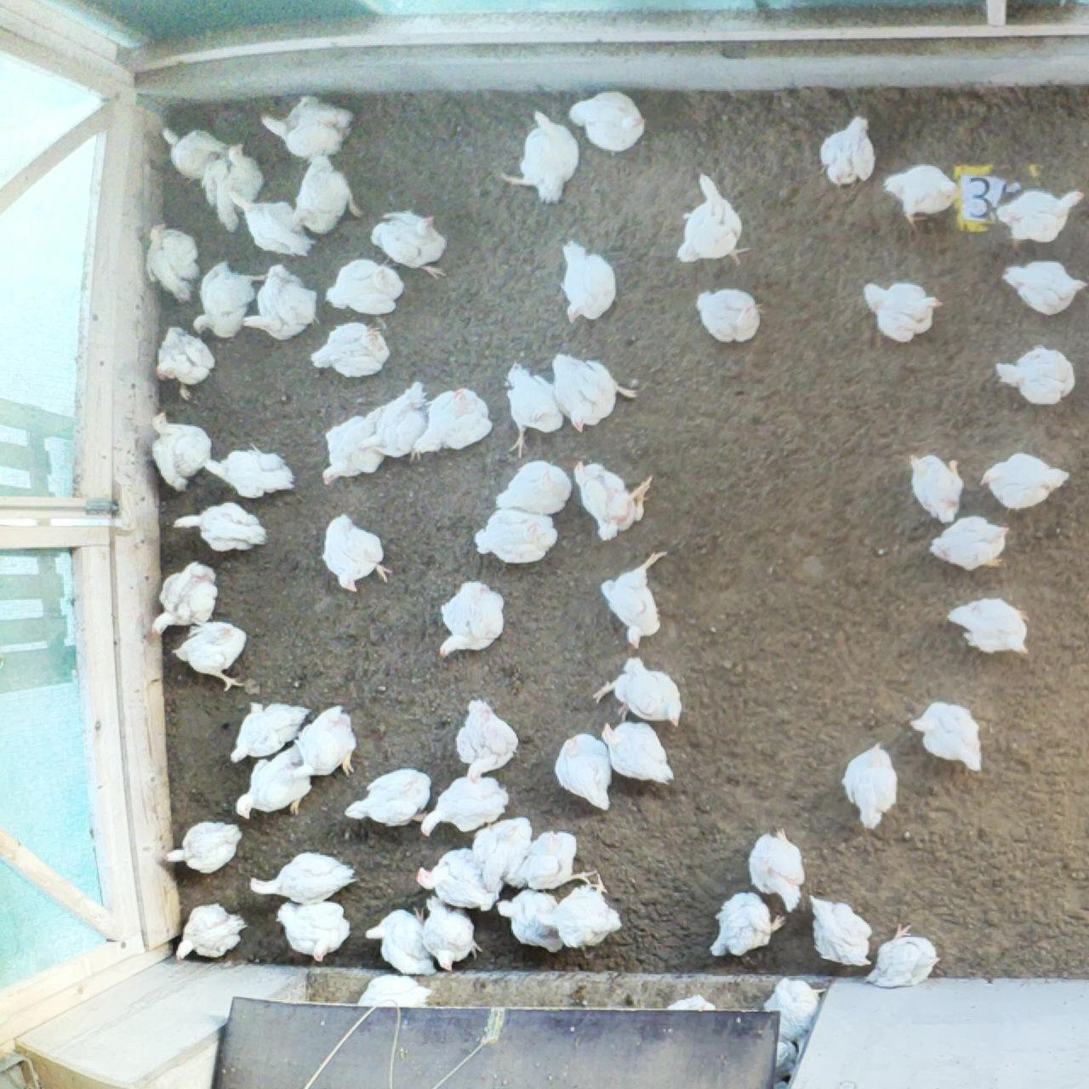chicken: (499, 111, 581, 207), (550, 352, 640, 437), (280, 148, 362, 241), (673, 172, 753, 267), (592, 653, 686, 731), (223, 186, 319, 260), (355, 379, 433, 469), (597, 550, 667, 649), (260, 91, 356, 163), (568, 458, 653, 539), (418, 770, 511, 841), (536, 876, 624, 951), (497, 362, 566, 456), (200, 138, 264, 236), (242, 263, 322, 341), (409, 385, 492, 460), (992, 186, 1086, 252), (415, 844, 502, 915), (504, 829, 602, 892), (368, 205, 447, 283), (434, 577, 510, 658), (195, 256, 269, 339), (979, 449, 1072, 514), (166, 499, 272, 556), (234, 743, 312, 820), (998, 254, 1089, 320), (172, 619, 251, 695), (250, 849, 359, 904), (150, 556, 219, 641), (344, 764, 434, 829), (412, 895, 484, 976), (858, 276, 945, 343), (882, 160, 964, 231), (944, 595, 1032, 661), (363, 905, 441, 979), (993, 341, 1079, 408), (708, 885, 785, 959), (910, 699, 987, 773), (150, 410, 217, 494), (319, 515, 391, 593), (805, 886, 872, 969), (841, 740, 902, 831), (289, 700, 356, 782), (227, 696, 309, 763), (560, 239, 621, 329), (453, 698, 519, 781), (202, 443, 296, 501), (470, 815, 539, 894), (493, 884, 569, 955), (151, 321, 216, 404), (865, 922, 942, 991), (171, 897, 249, 965), (748, 827, 808, 914), (815, 110, 879, 191), (927, 515, 1013, 575), (596, 719, 674, 785), (569, 90, 646, 156), (273, 900, 351, 965), (553, 731, 615, 812), (161, 816, 244, 876), (318, 412, 385, 486), (689, 285, 767, 348), (472, 507, 558, 564), (141, 218, 196, 307), (493, 457, 572, 518), (309, 318, 385, 381), (324, 259, 404, 317), (907, 449, 967, 524), (762, 975, 826, 1045), (159, 124, 229, 176), (355, 973, 433, 1011)
